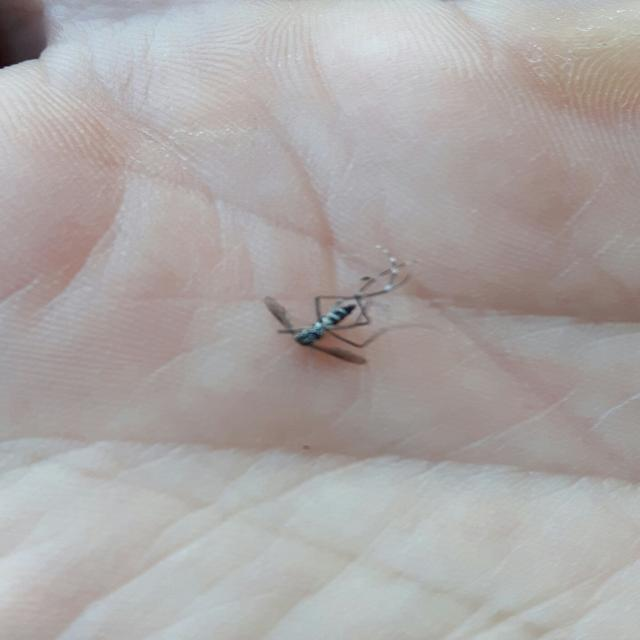albopictus: (250, 240, 426, 368)
